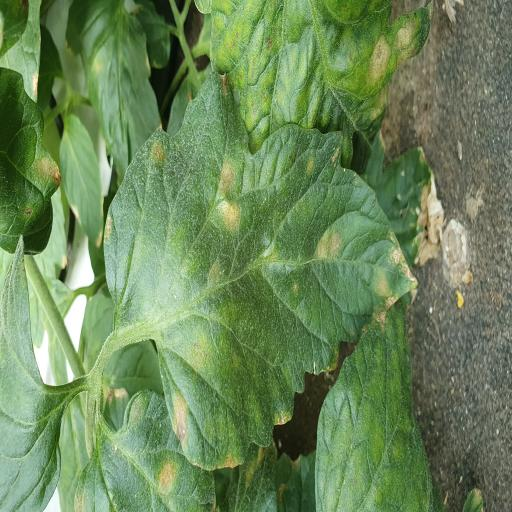Leaf Mold: (104, 66, 420, 475), (192, 0, 430, 154), (315, 295, 432, 512), (73, 388, 220, 512)
